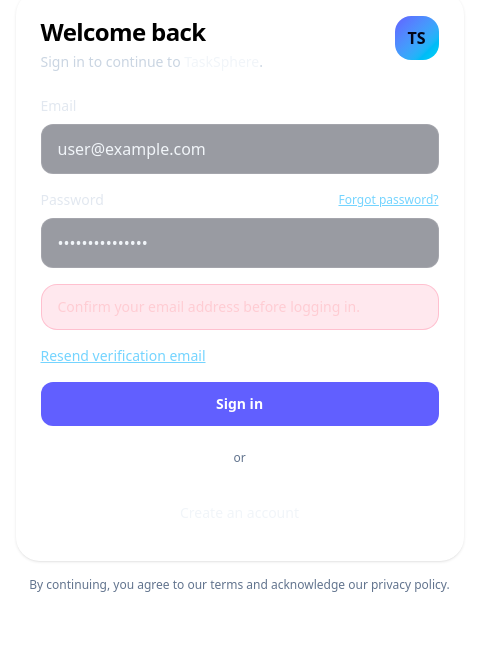
Test case: LoginComponent › posts the address when resend is pressed
Step 1. Click the button with test id "resend-verification" → (123, 356), box [40,346,206,366]
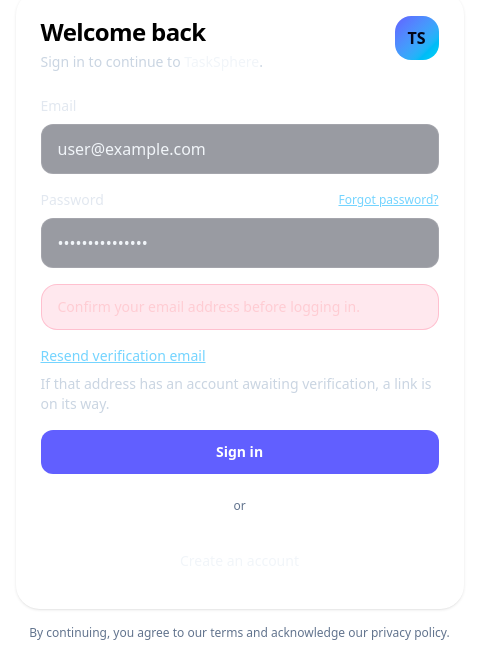
Result: the text "on its way" is shown at [40,374,432,413]
